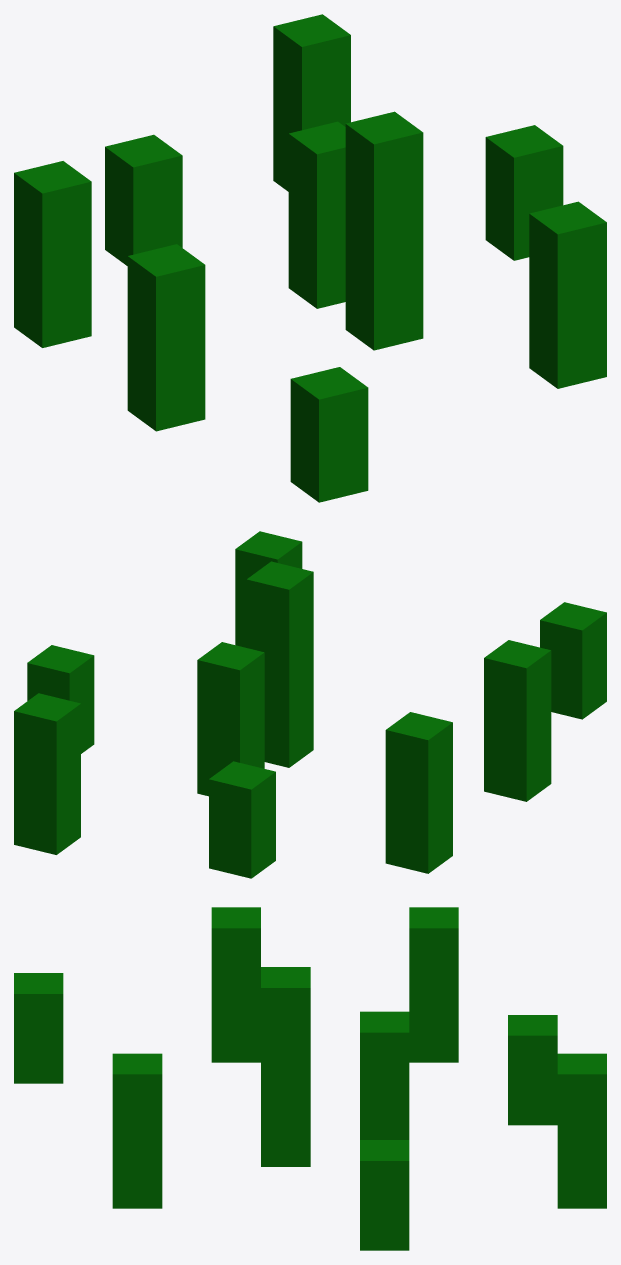
File: grass1.obj
3 views of the same model, one above another, from view 1: azimuth 30°, elevation 25°; view 2: azimuth 150°, elevation 25°; view 3: azimuth 270°, elevation 25° (orthographic). The views are drawn at different scales.
Bounding box in the file's own units: 1 × 0.4 × 1.2.
Materials: 1 (1 with a texture image).
